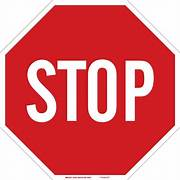stop: (1, 1, 179, 180)
